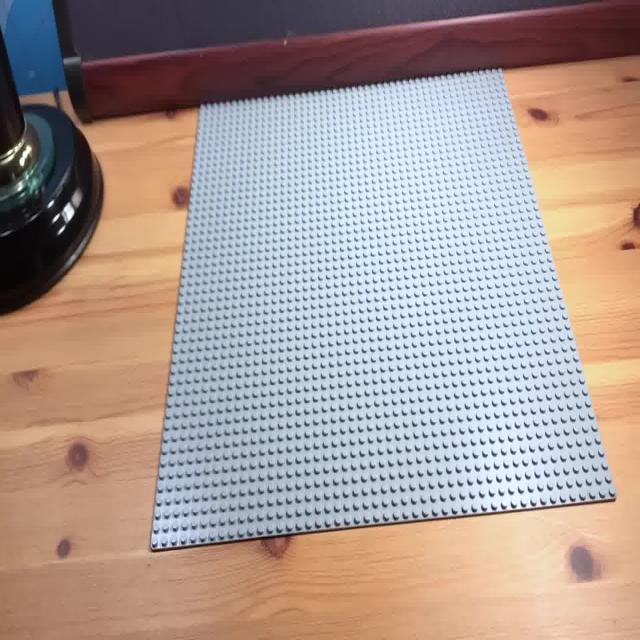figure: (155, 69, 612, 542)
